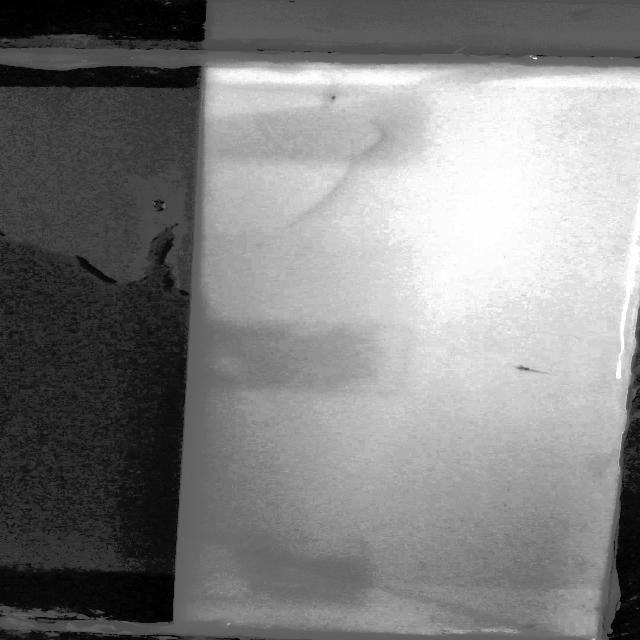shrimp: (507, 362, 555, 380), (321, 94, 340, 111), (523, 620, 547, 631)
